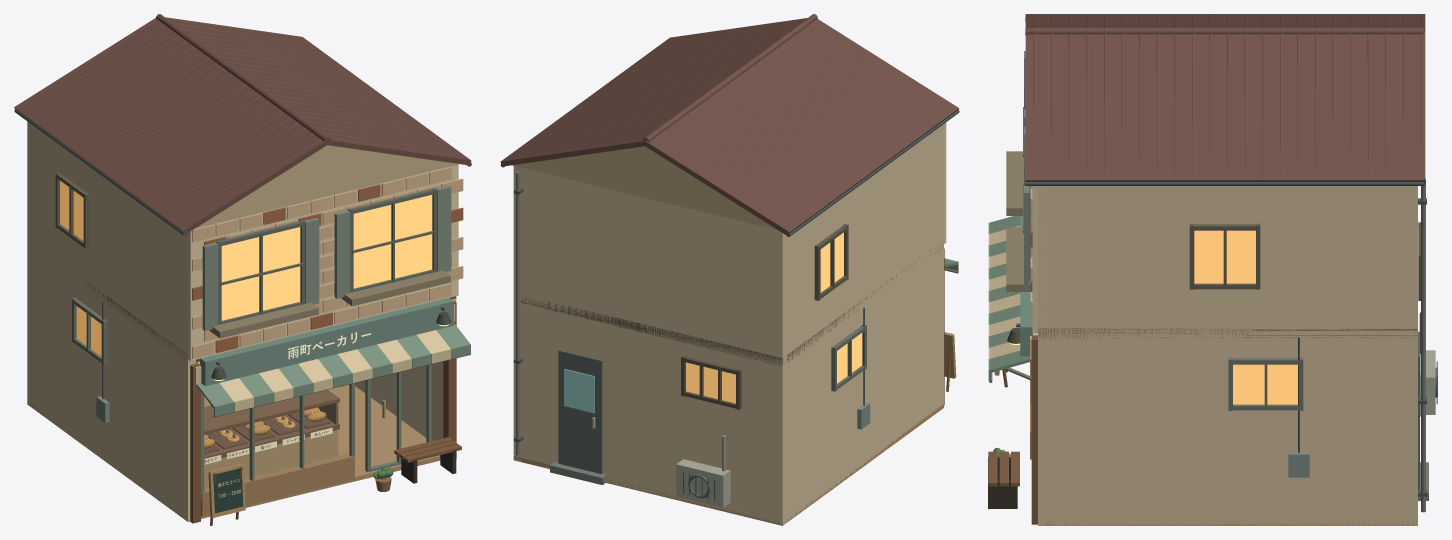
File: bakery.glb
3 views of the same model, side by side, from view 1: azimuth 30°, elevation 25°; view 2: azimuth 150°, elevation 25°; view 3: azimuth 270°, elevation 25° (orthographic). The views are drawn at different scales.
Visible parts, largest first — view 1: 雨町面包店, Group_392; view 2: 雨町面包店, Group_367, Group_392; view 3: 雨町面包店, Group_407, Group_367.
Boxes of the visible parts, bbox=[...] form: 雨町面包店: bbox=[14, 14, 471, 525]; Group_392: bbox=[55, 172, 109, 422]; 雨町面包店: bbox=[500, 14, 959, 525]; Group_367: bbox=[513, 171, 741, 507]; Group_392: bbox=[814, 224, 870, 429]; 雨町面包店: bbox=[988, 14, 1425, 525]; Group_407: bbox=[1189, 223, 1309, 477]; Group_367: bbox=[1418, 178, 1437, 512].
Bounding box in the file's own units: 5.6 × 6.6 × 6.39.
Materials: 72 (8 with a texture image).
